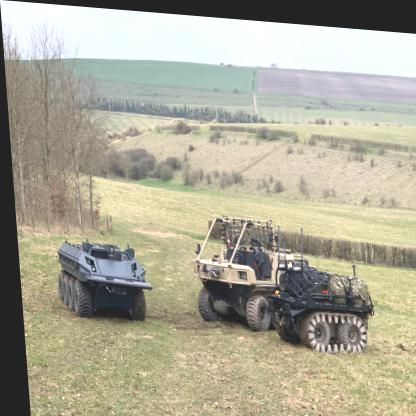UGV: (264, 220, 368, 348), (187, 211, 268, 329), (51, 235, 151, 323)
